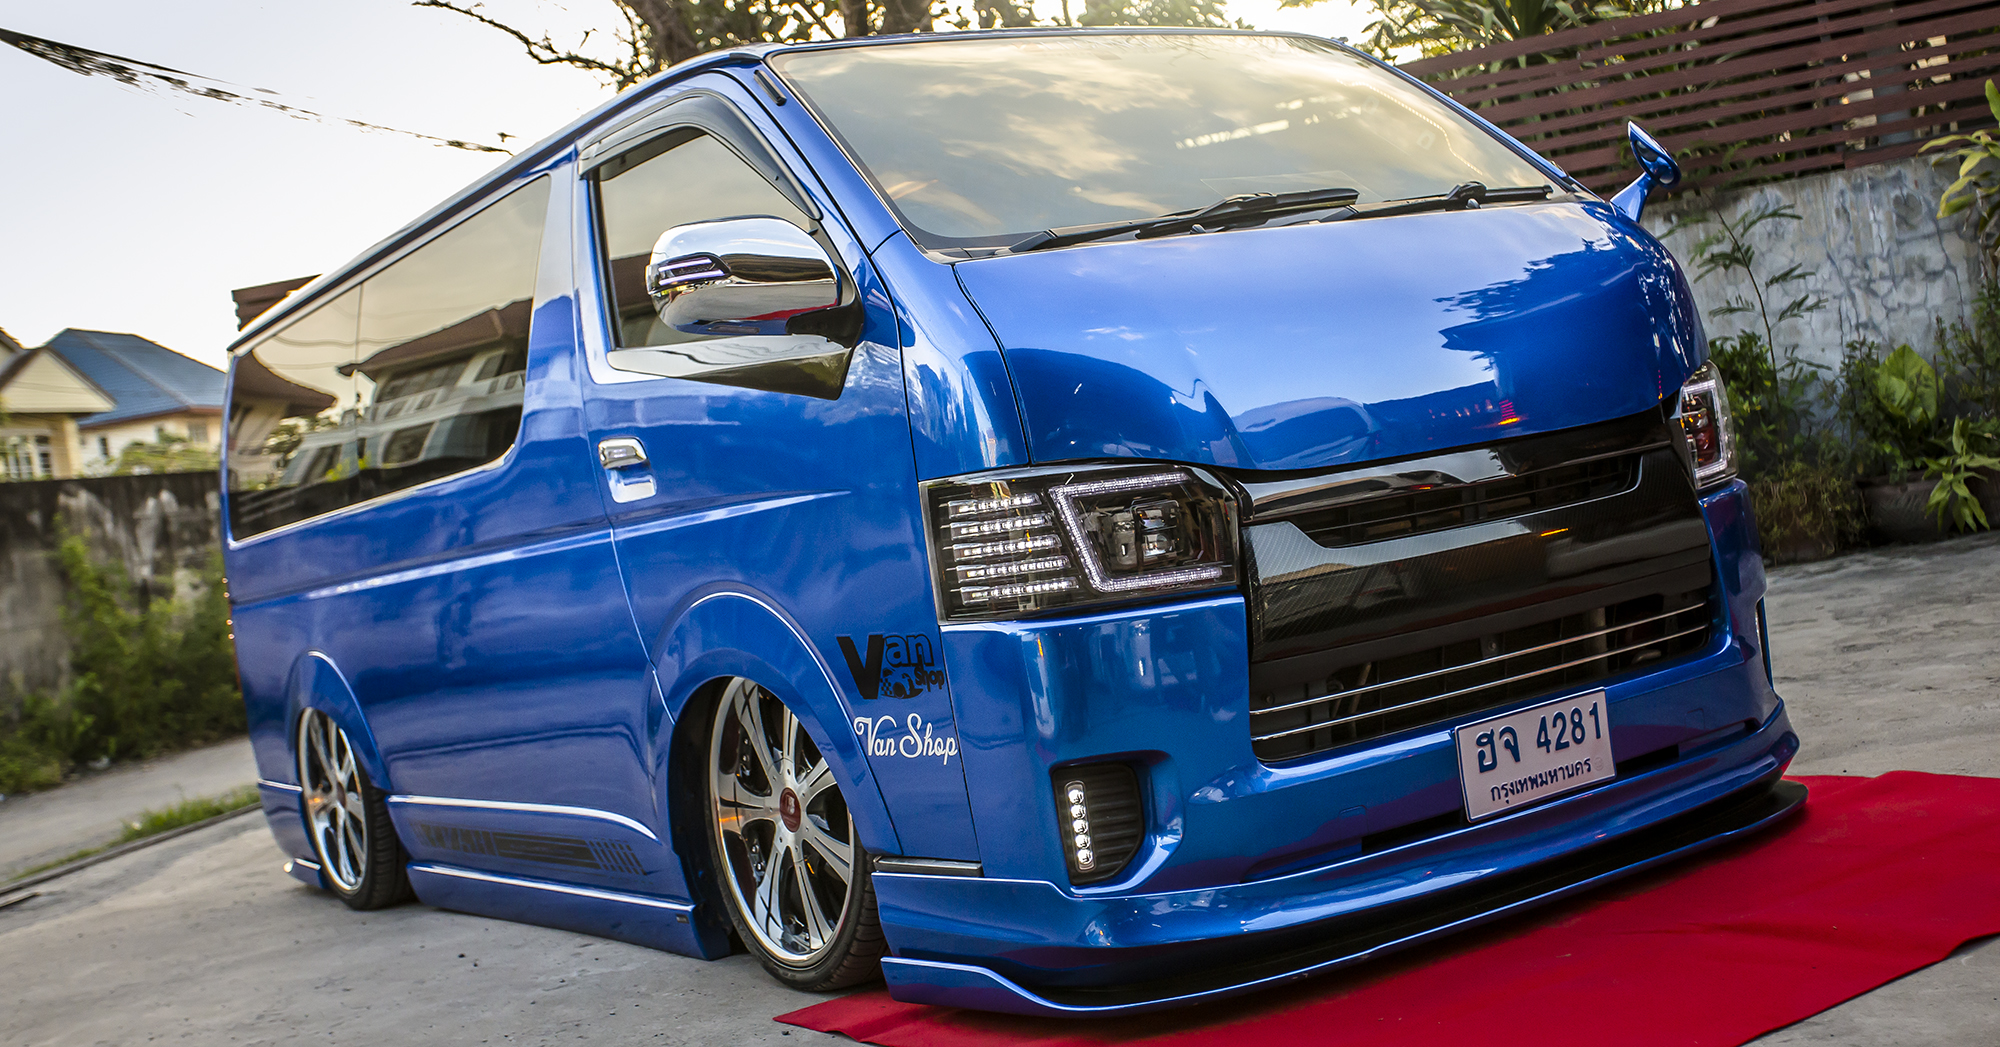van: (216, 19, 1813, 1027)
